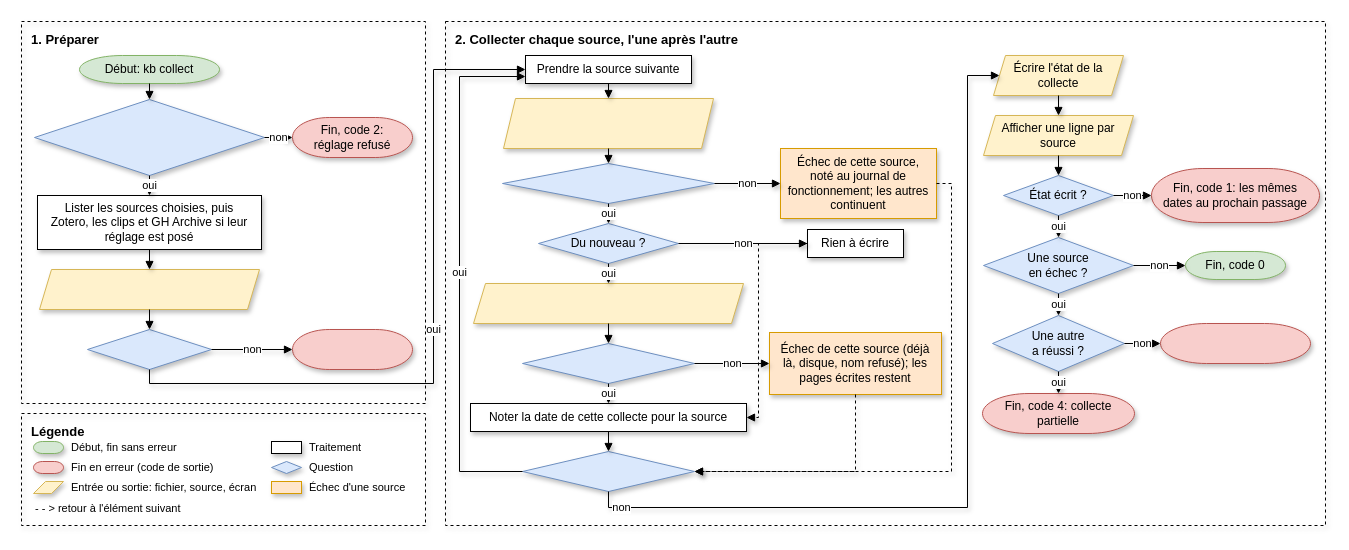
Image size: 1349x550. Some labels were removed from this diagram. Here are the shapes that lost their labels. From the top down, the centre of each, then its label:
[150,138]: Choix des sources (KB_COLLECT_ONLY) valide ?
[609,125]: Interroger la source, avec la date de sa dernière collecte si elle s'en sert
[609,184]: Réponse sans erreur ?
[150,290]: Lire l'état: la date de la dernière collecte de chaque source
[609,304]: Écrire le brut sous raw/: un fichier, ou un dossier de pages; ne jamais écraser
[150,350]: État lisible ?
[353,350]: Fin, code 2: état illisible
[609,364]: Écrit sans erreur ?
[1236,344]: Fin, code 1: aucune source réussie
[609,472]: Source suivante ?
